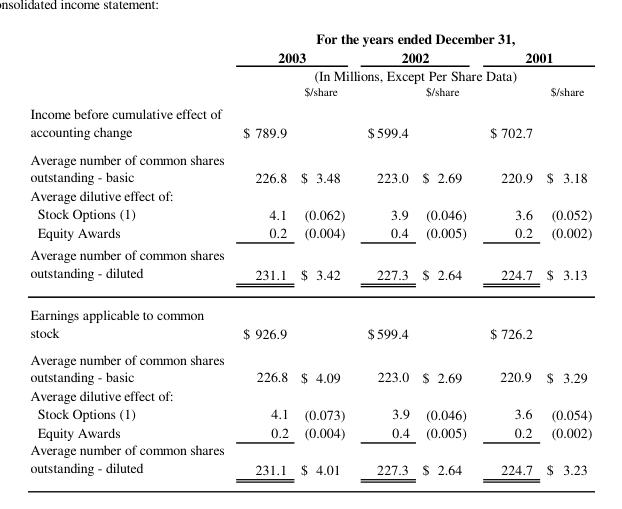table: (29, 28, 591, 478)
table column: (29, 28, 232, 478), (232, 28, 294, 478), (415, 28, 477, 478), (294, 28, 355, 478), (477, 28, 538, 478), (355, 28, 415, 478), (538, 28, 591, 478)
table column header: (29, 28, 591, 144)
table projected row header: (29, 185, 591, 203), (29, 385, 591, 403)
table row: (29, 83, 591, 144), (29, 293, 591, 345), (29, 242, 591, 293), (29, 144, 591, 185), (29, 345, 591, 385), (29, 440, 591, 478), (29, 222, 591, 242), (29, 28, 591, 47), (29, 203, 591, 222), (29, 403, 591, 422), (29, 47, 591, 65), (29, 65, 591, 83), (29, 185, 591, 203), (29, 385, 591, 403), (29, 422, 591, 440)
table spanning cell: (29, 28, 232, 144), (232, 28, 591, 47), (232, 65, 591, 83), (232, 47, 355, 65), (355, 47, 477, 65), (477, 47, 591, 65)
